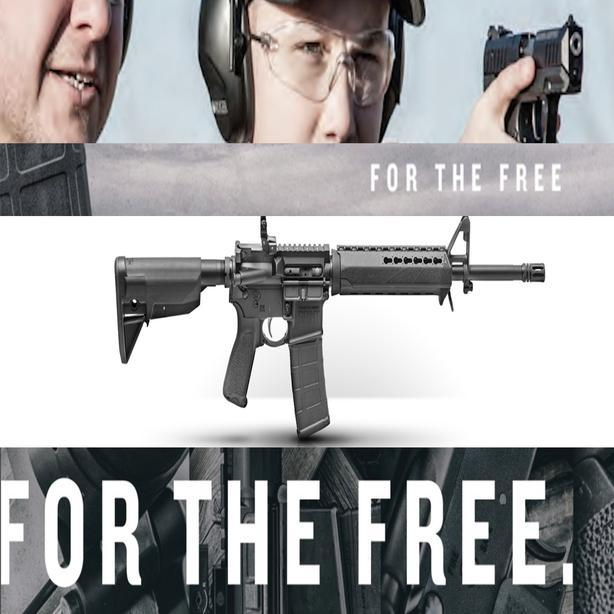Firearm: (103, 213, 550, 445), (475, 12, 603, 146)
